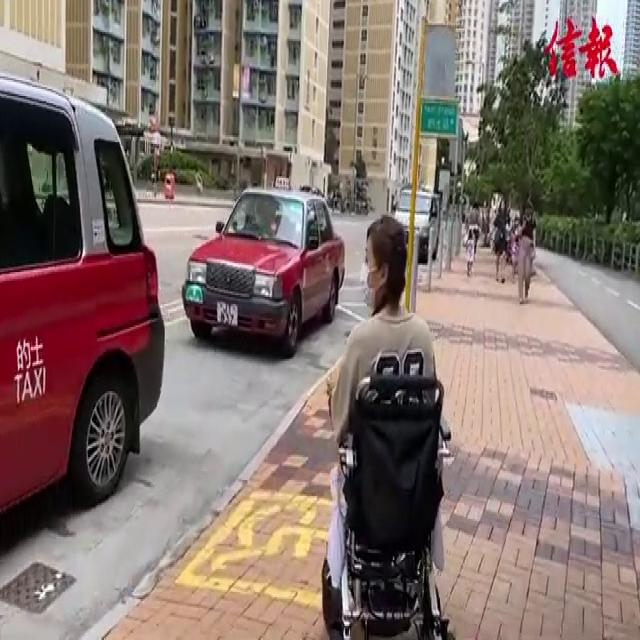wheelchairs: (314, 357, 467, 640)
